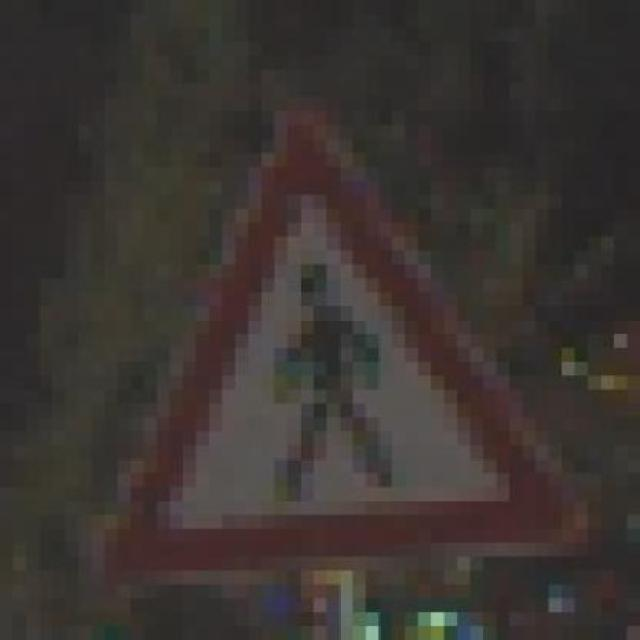Pedestrian Crossing: (92, 83, 600, 585)
